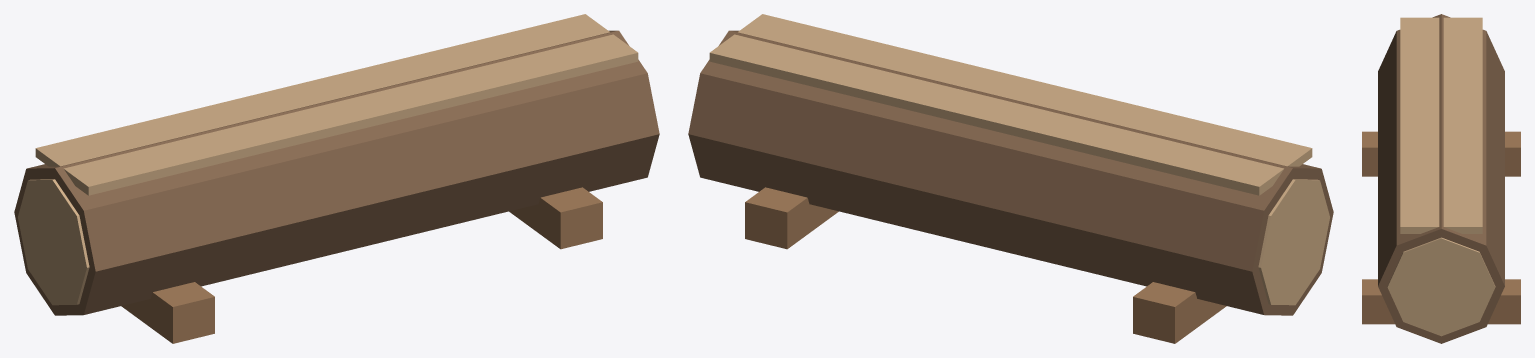
The model's file is SM_LogBench.fbx.
The picture shows the model from 3 angles, left to right: view 1: azimuth 30°, elevation 25°; view 2: azimuth 150°, elevation 25°; view 3: azimuth 270°, elevation 25°; orthographic projection. The views are drawn at different scales.
Visible parts, largest first — view 1: SM_LogBench; view 2: SM_LogBench; view 3: SM_LogBench.
Part boxes in pixels (x1,y1,x2,y2): SM_LogBench: [14, 14, 659, 343]; SM_LogBench: [688, 14, 1333, 343]; SM_LogBench: [1362, 14, 1520, 343].
Size of the model in its own units: 1.61 by 0.42 by 0.5.
